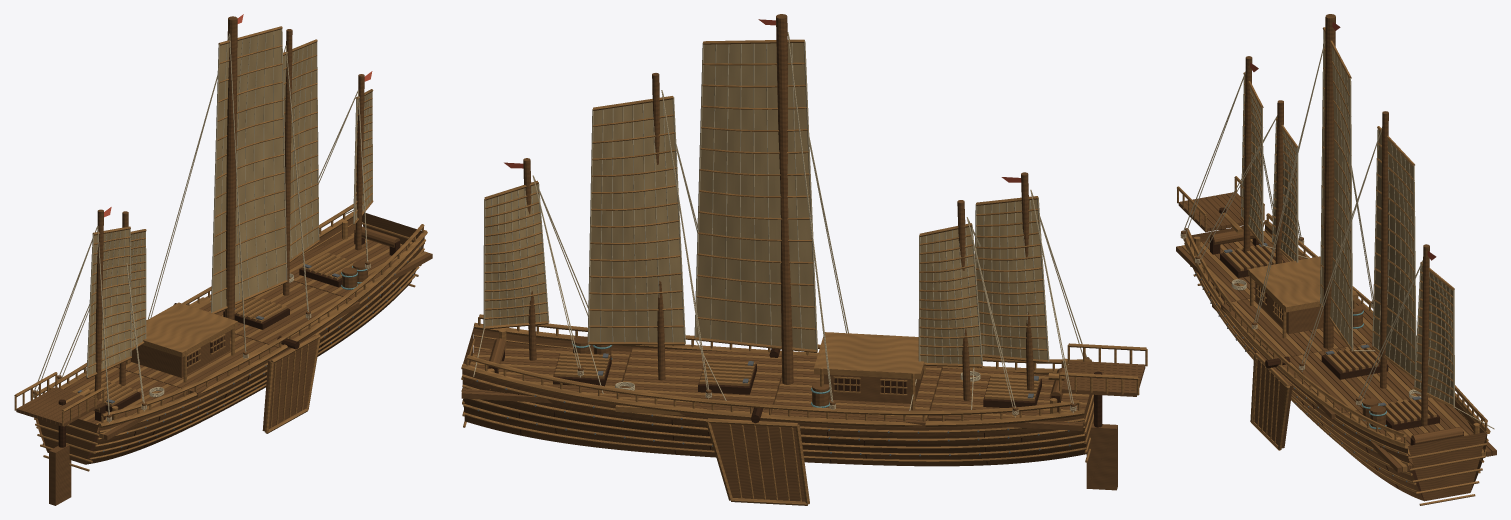
File: shipModelData-tangSha.glb
3 renders of one model, left to right at view 1: azimuth 30°, elevation 25°; view 2: azimuth 150°, elevation 25°; view 3: azimuth 270°, elevation 25°, orthographic. The views are drawn at different scales.
Visible parts, largest first — view 1: Warm aged teak, Golden bamboo and gunwales, Ochre woven mat sails, Flax ropes, Dark endgrain and joinery; view 2: Ochre woven mat sails, Golden bamboo and gunwales, Warm aged teak, Flax ropes, Dark endgrain and joinery; view 3: Warm aged teak, Golden bamboo and gunwales, Ochre woven mat sails, Flax ropes, Dark endgrain and joinery.
Part boxes in pixels (x1,y1,x2,y2): Warm aged teak: [16, 16, 432, 505]; Golden bamboo and gunwales: [14, 26, 427, 471]; Ochre woven mat sails: [88, 29, 371, 375]; Flax ropes: [33, 29, 372, 423]; Dark endgrain and joinery: [58, 230, 400, 462]; Ochre woven mat sails: [485, 43, 1047, 364]; Golden bamboo and gunwales: [461, 39, 1147, 505]; Warm aged teak: [461, 14, 1145, 501]; Flax ropes: [473, 32, 1087, 417]; Dark endgrain and joinery: [488, 348, 1102, 464]; Warm aged teak: [1176, 14, 1496, 501]; Golden bamboo and gunwales: [1177, 27, 1490, 505]; Ochre woven mat sails: [1242, 32, 1453, 404]; Flax ropes: [1180, 30, 1494, 429]; Dark endgrain and joinery: [1209, 207, 1463, 499].
Size of the model in its own units: 12.68 by 9.54 by 6.75.
Materials: 8 (4 with a texture image).
